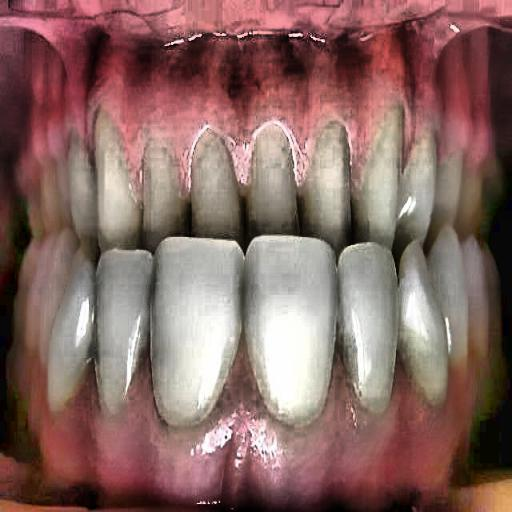Healthy: (55, 108, 432, 396)
